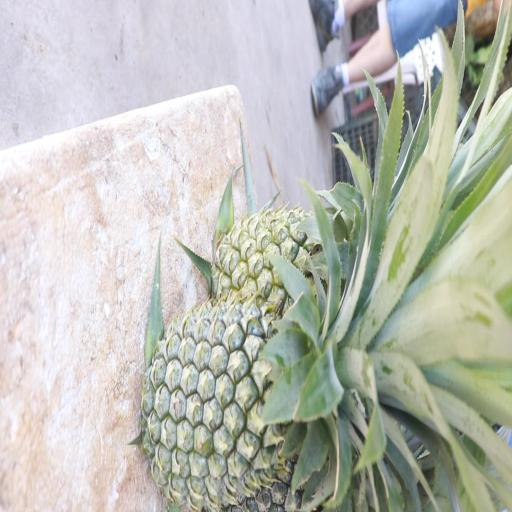Pineapple - v8 v1: (212, 192, 370, 318)
